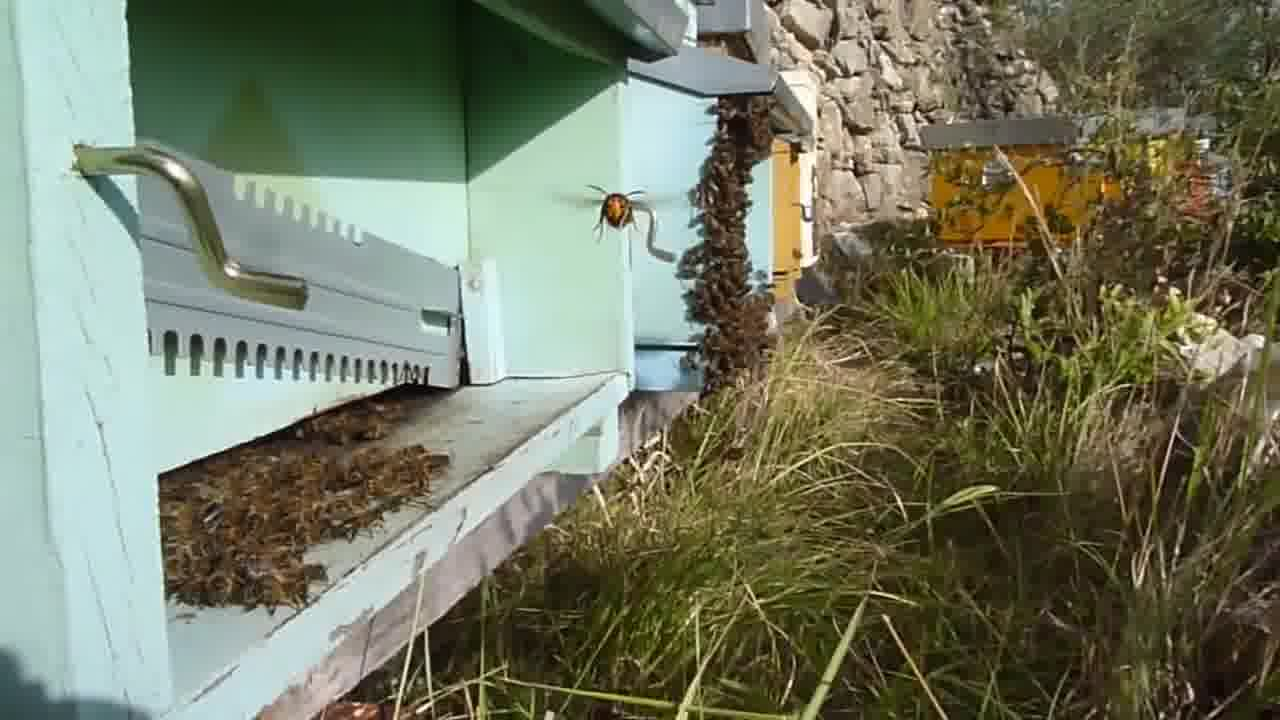bee: (170, 479, 273, 594), (211, 448, 359, 500), (684, 178, 750, 268), (713, 96, 778, 178), (685, 276, 768, 334), (692, 324, 772, 374), (306, 402, 384, 445), (269, 551, 326, 606), (382, 447, 443, 487), (332, 497, 393, 537)
hornet: (583, 181, 640, 236)
